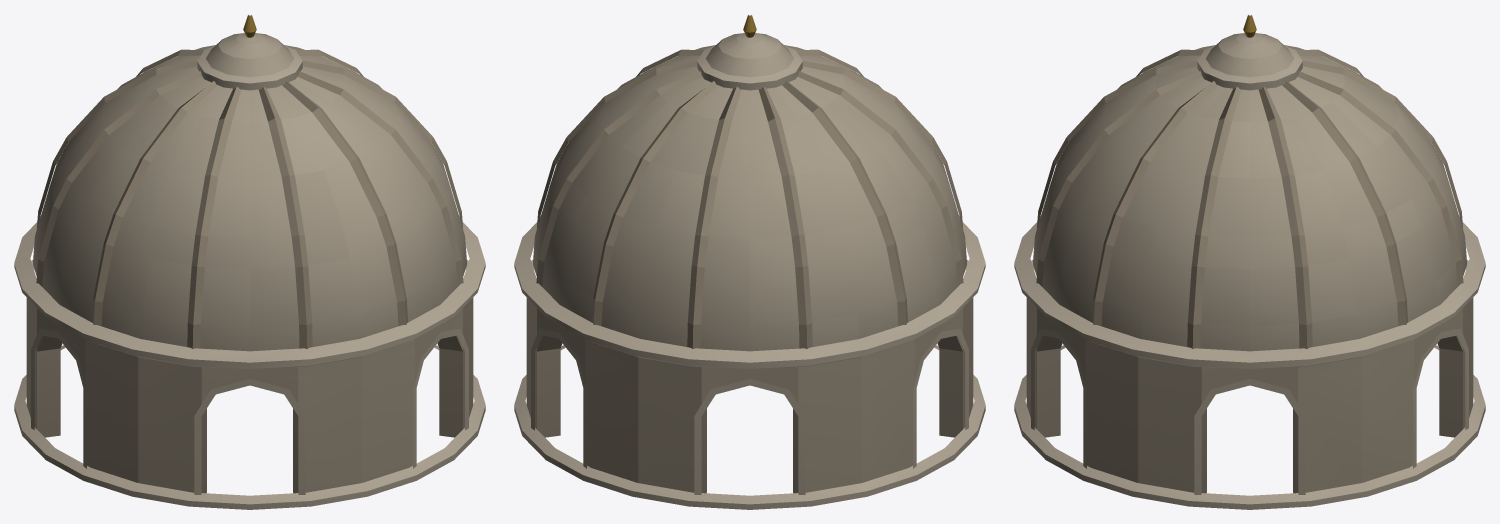
Rendered from dome.whole_12.stone.glb.
3 views of the same model, side by side, from view 1: azimuth 30°, elevation 25°; view 2: azimuth 150°, elevation 25°; view 3: azimuth 270°, elevation 25° (orthographic).
Visible parts, largest first — view 1: dome_whole_12_stone; view 2: dome_whole_12_stone; view 3: dome_whole_12_stone.
Part boxes in pixels (left/top/right/bottom): dome_whole_12_stone: left=14, top=15, right=485, bottom=509; dome_whole_12_stone: left=514, top=15, right=985, bottom=509; dome_whole_12_stone: left=1014, top=15, right=1485, bottom=509.
Size of what is drawn, in the model's own units: 7.6 by 7.03 by 7.6.
